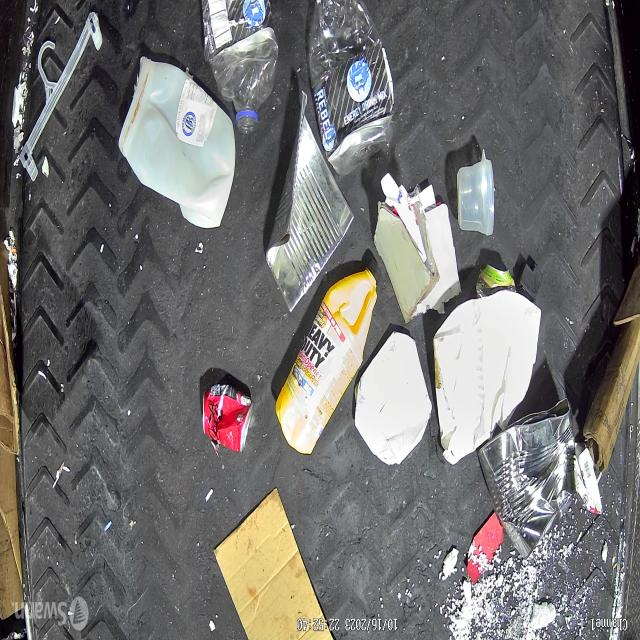can: (264, 85, 356, 314), (483, 391, 586, 554), (198, 381, 250, 456), (476, 265, 512, 295)
milk_jug: (118, 55, 236, 228)
non_white_jug: (274, 266, 378, 457)
plastic_bottle: (308, 0, 394, 178), (202, 0, 278, 134)
